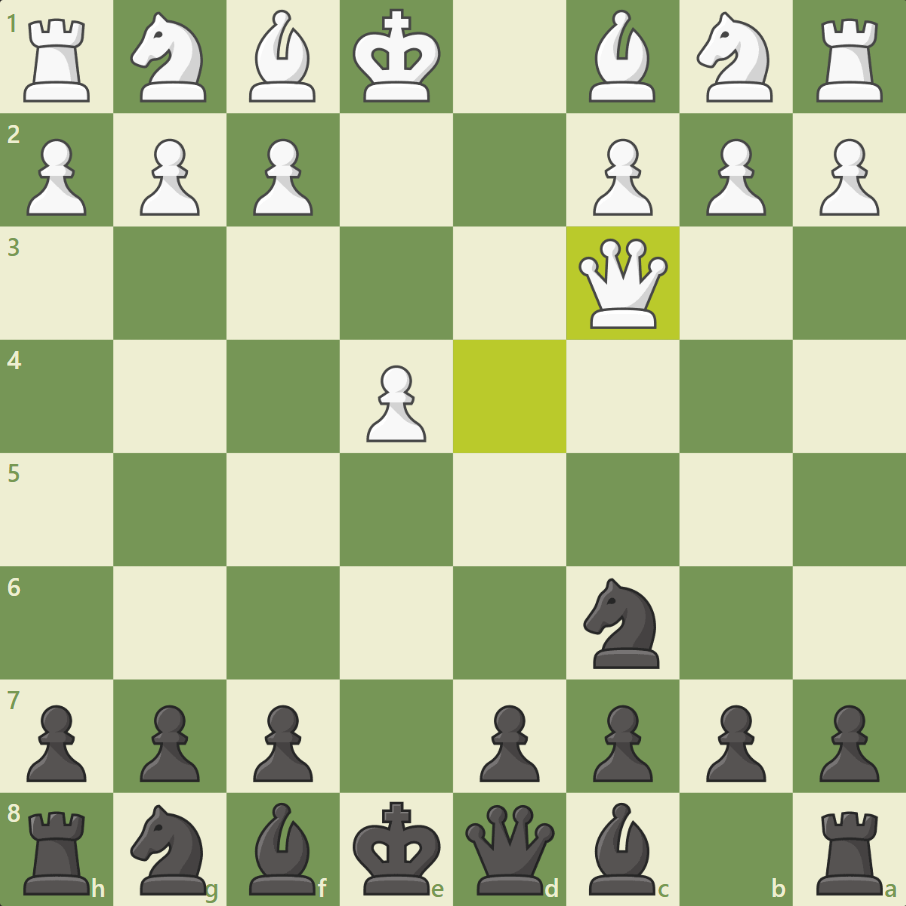B: (245, 6, 318, 105), (586, 7, 656, 104)
K: (350, 6, 440, 106)
N: (126, 10, 211, 105), (694, 10, 775, 107)
P: (362, 362, 430, 447), (247, 135, 315, 220), (136, 135, 204, 220), (21, 134, 89, 219), (588, 137, 656, 222), (701, 135, 769, 220), (814, 136, 882, 221)
Q: (573, 233, 668, 332)
R: (813, 16, 886, 107), (22, 16, 94, 105)
b: (587, 799, 661, 901), (247, 800, 320, 900)
k: (350, 799, 441, 899)
n: (574, 577, 662, 673), (127, 805, 211, 899)
p: (817, 701, 881, 786), (702, 699, 766, 784), (591, 700, 655, 785), (477, 702, 541, 787), (250, 702, 314, 787), (138, 702, 202, 787), (24, 702, 88, 787)
q: (460, 801, 556, 901)
r: (814, 807, 887, 899), (23, 805, 94, 899)
